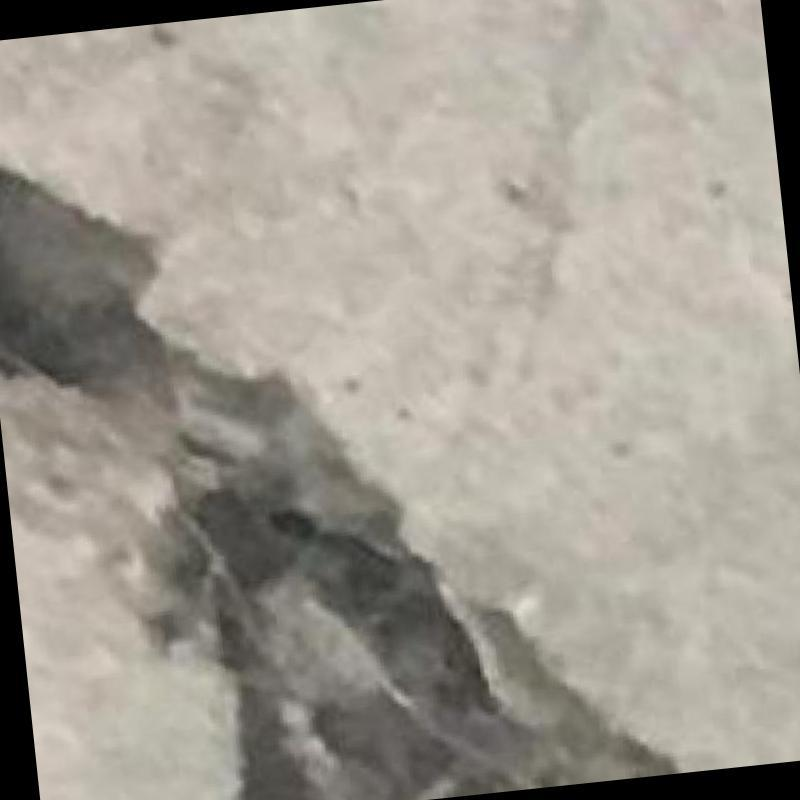pothole: (0, 169, 675, 800)
